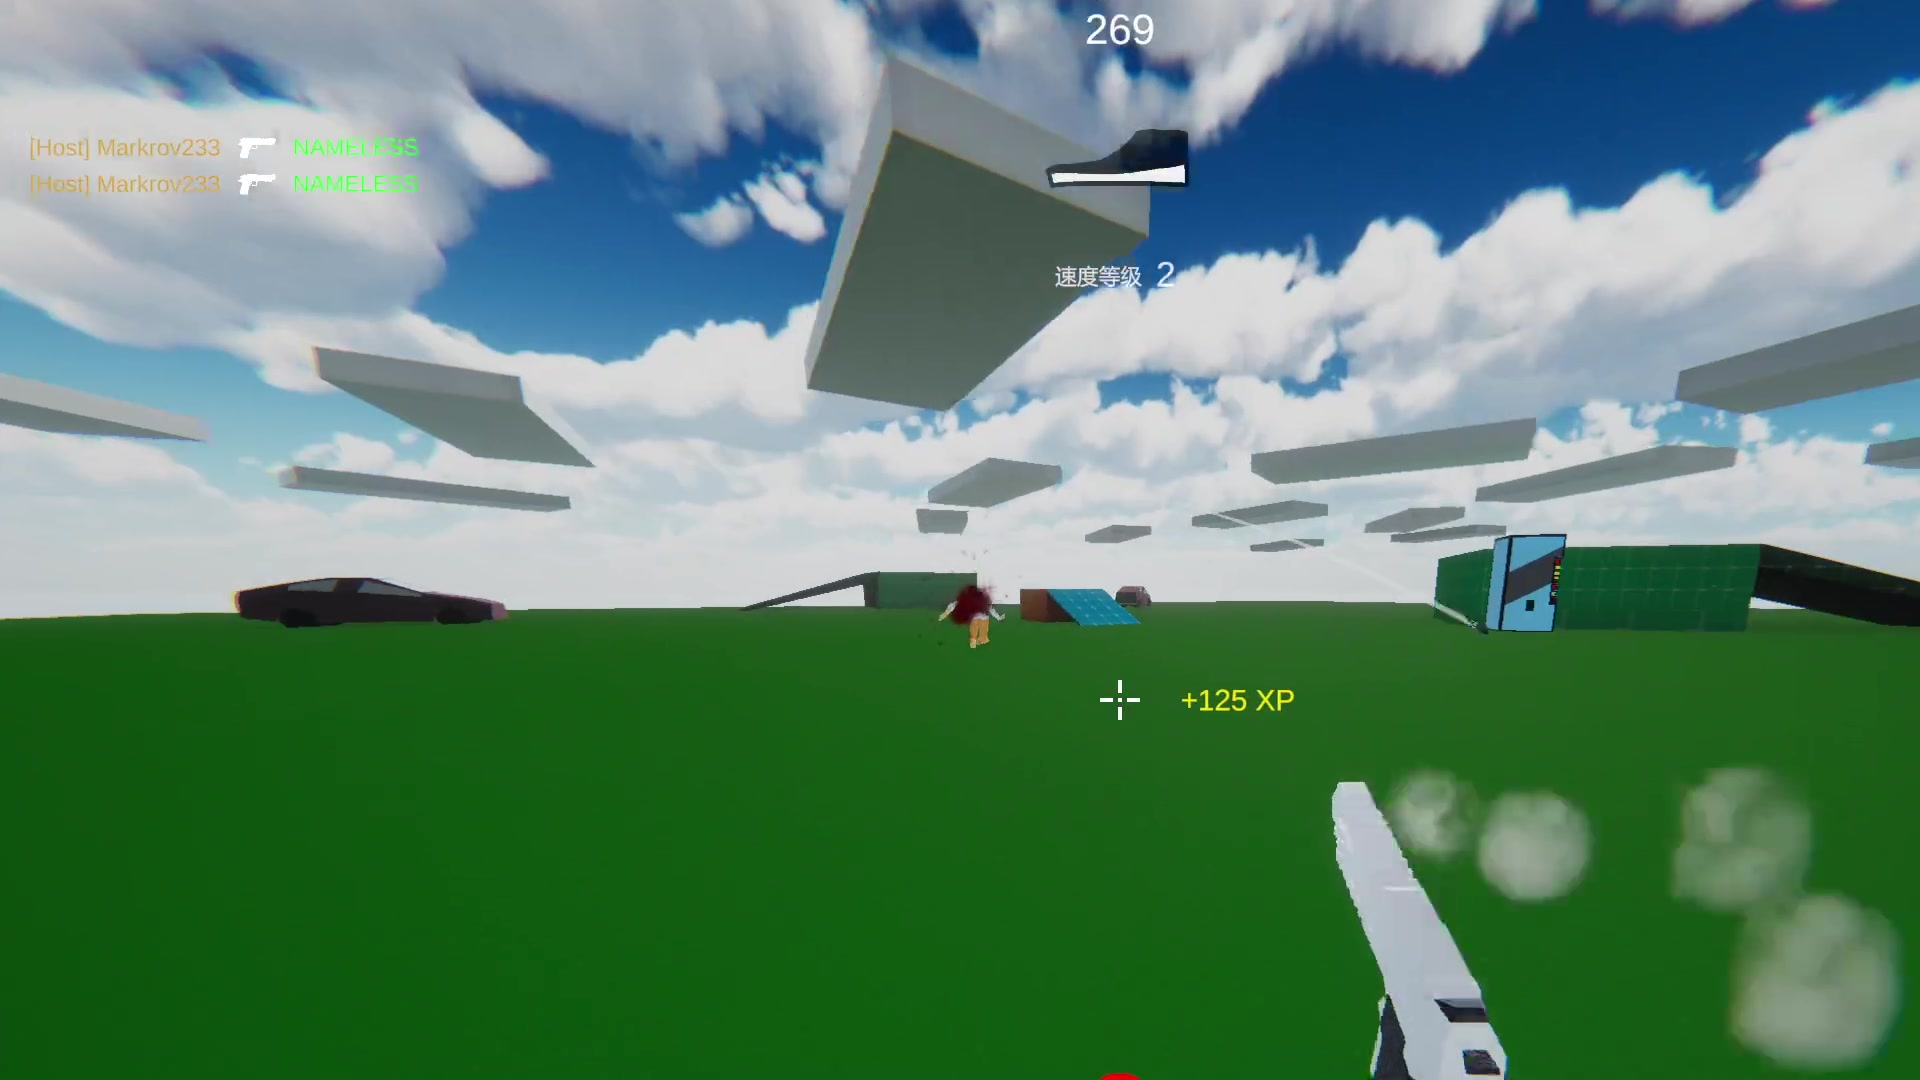died: (943, 579, 1006, 655)
